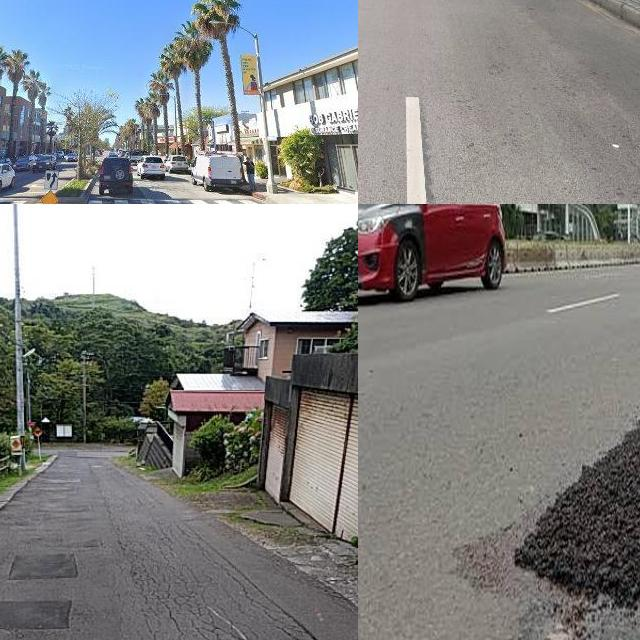Retak Buaya: (119, 533, 309, 640)
Sambungan: (497, 415, 640, 588), (0, 601, 73, 627), (12, 551, 77, 575)
